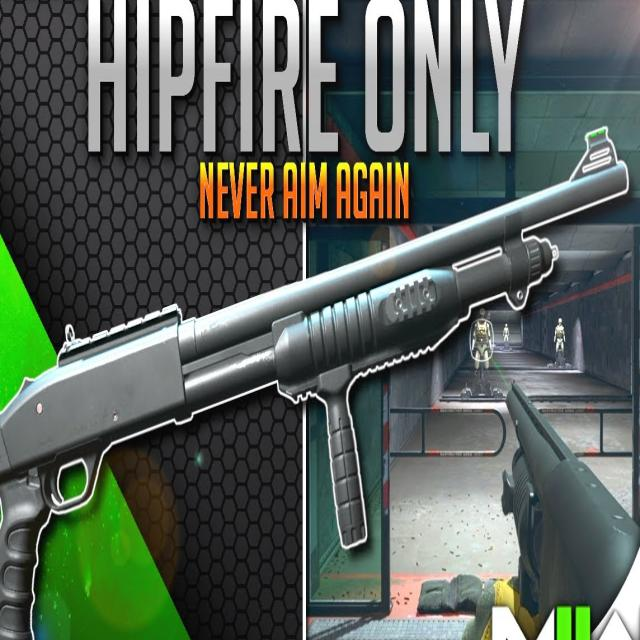Weapon: (0, 131, 628, 640)
